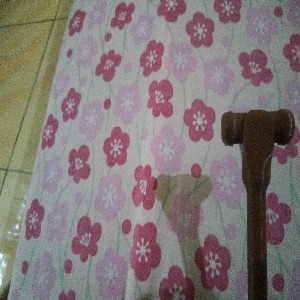palu: (220, 107, 296, 300)
